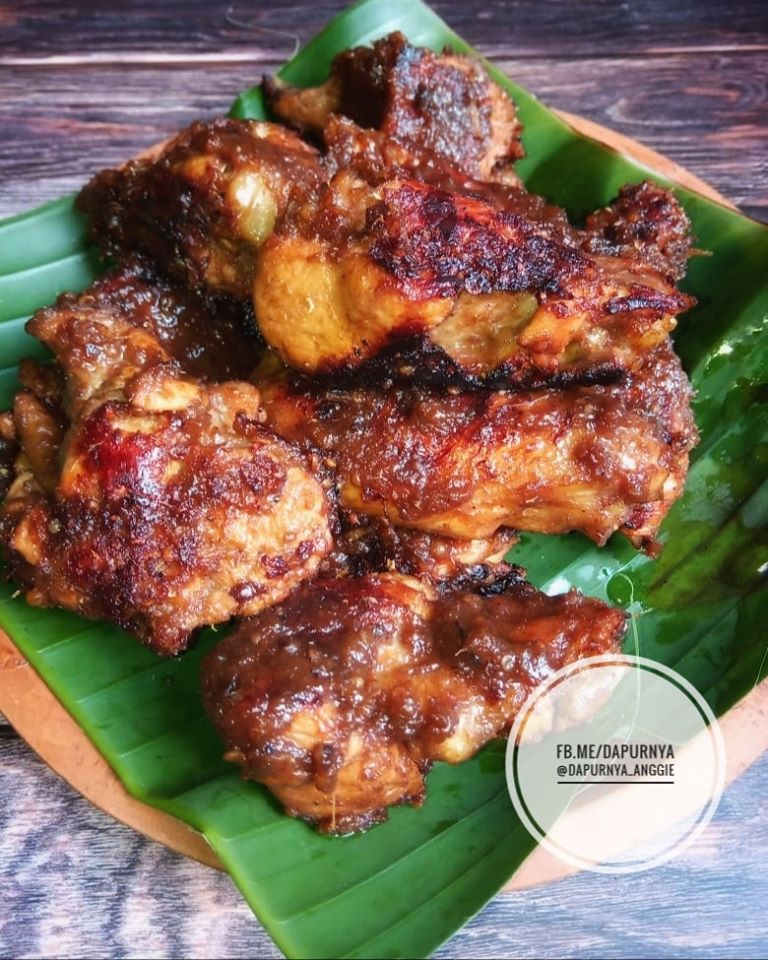Ayam: (210, 553, 630, 830)
